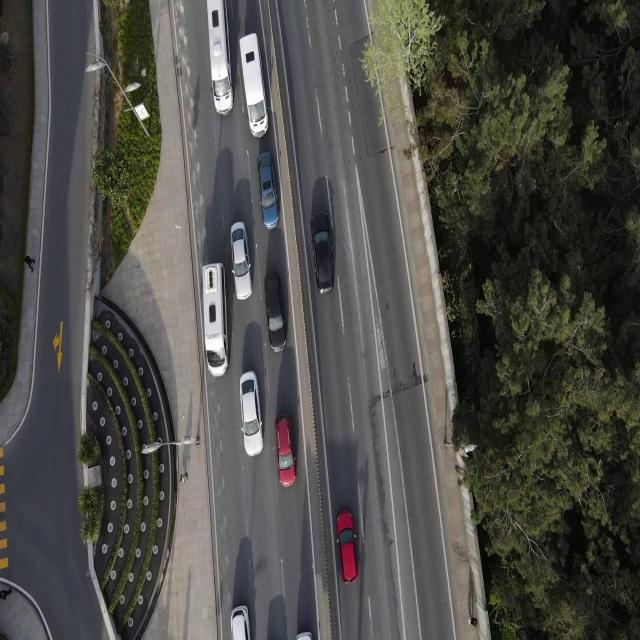p3rson: (23, 255, 35, 272), (468, 610, 478, 628), (178, 472, 188, 484)
